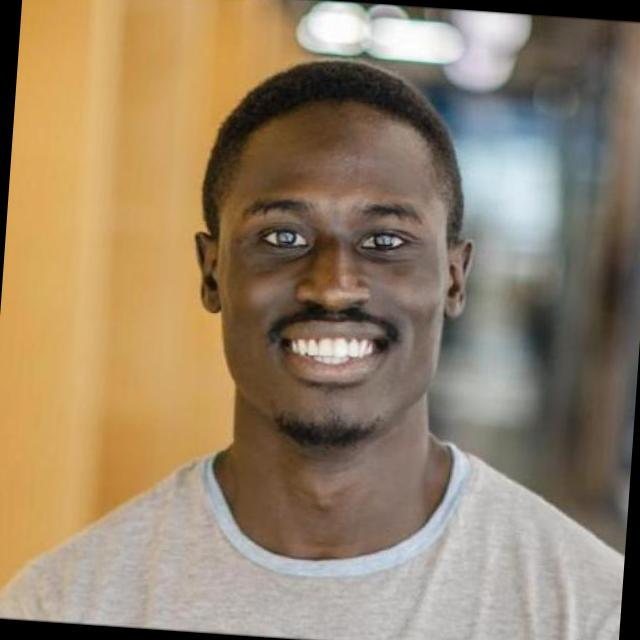bareface: (172, 49, 488, 447)
